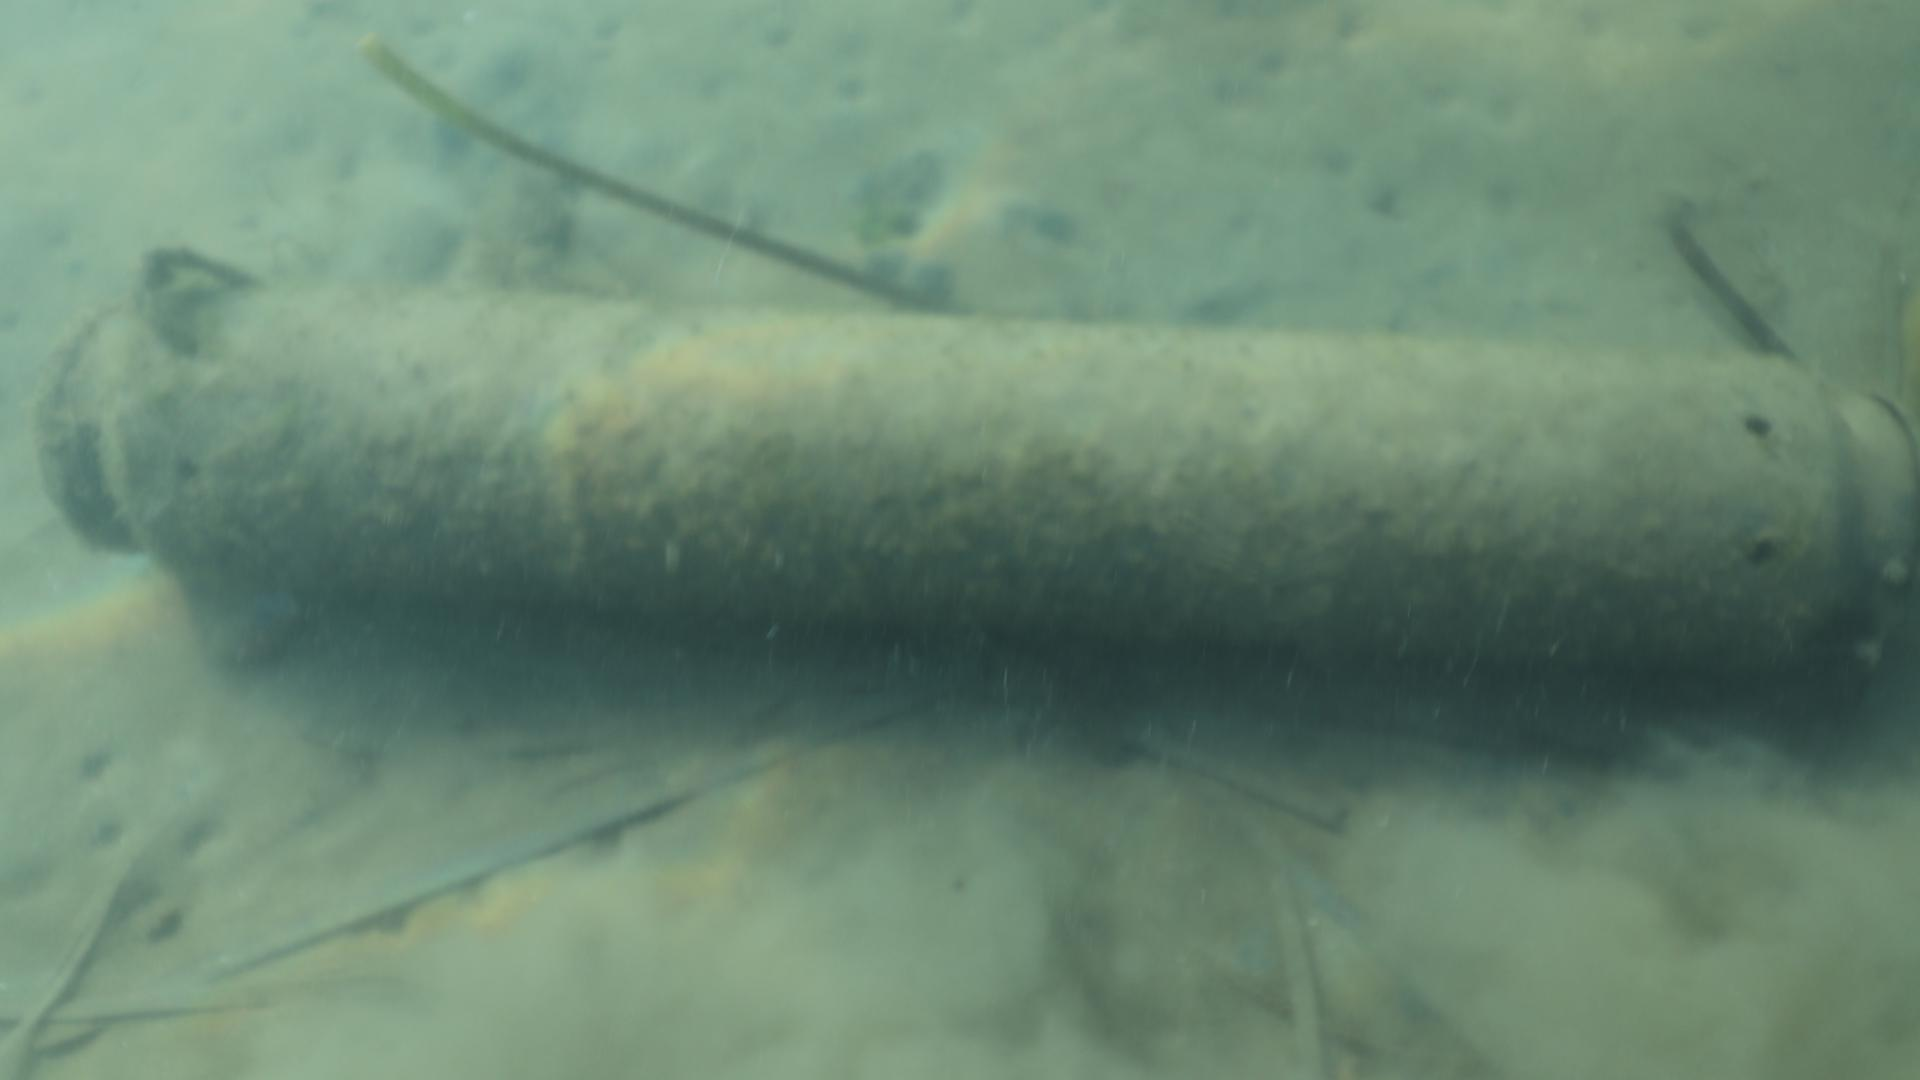eel fish trap: (33, 244, 1920, 676)
